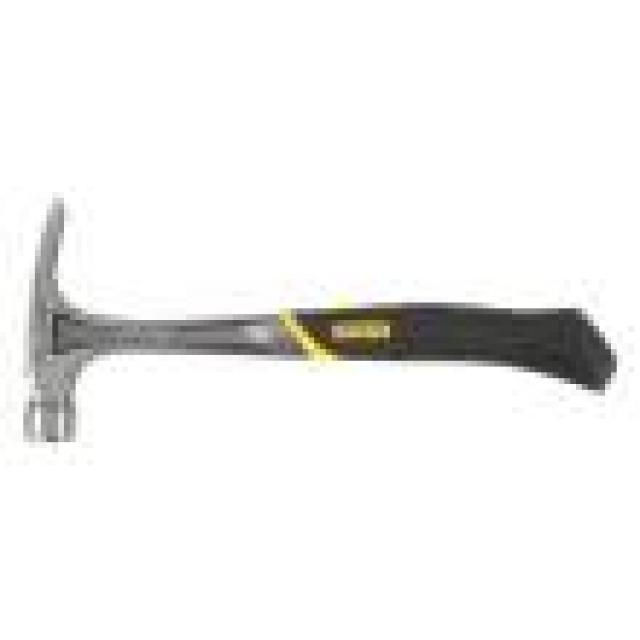hammer: (11, 186, 639, 466)
